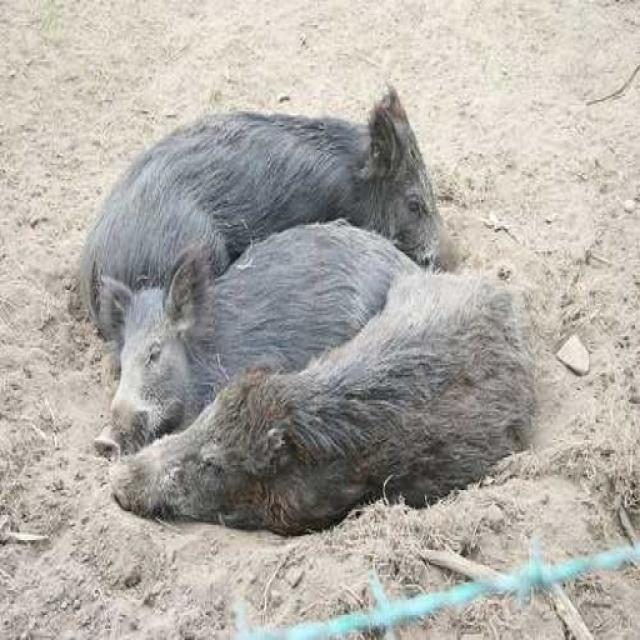pig: (38, 75, 466, 271), (106, 361, 570, 514), (83, 230, 382, 438)
